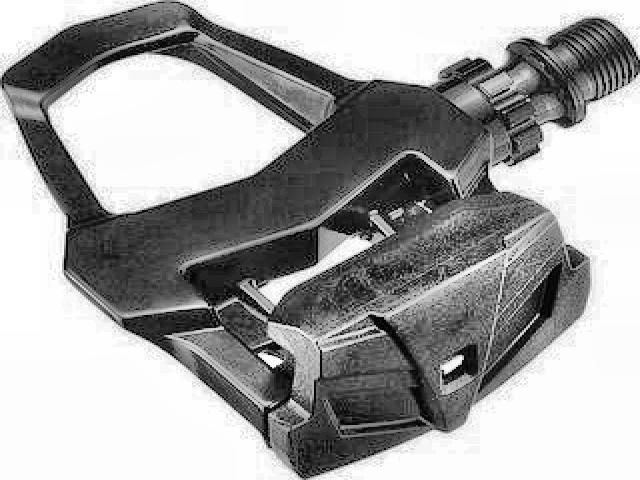pedal: (5, 2, 640, 472)
